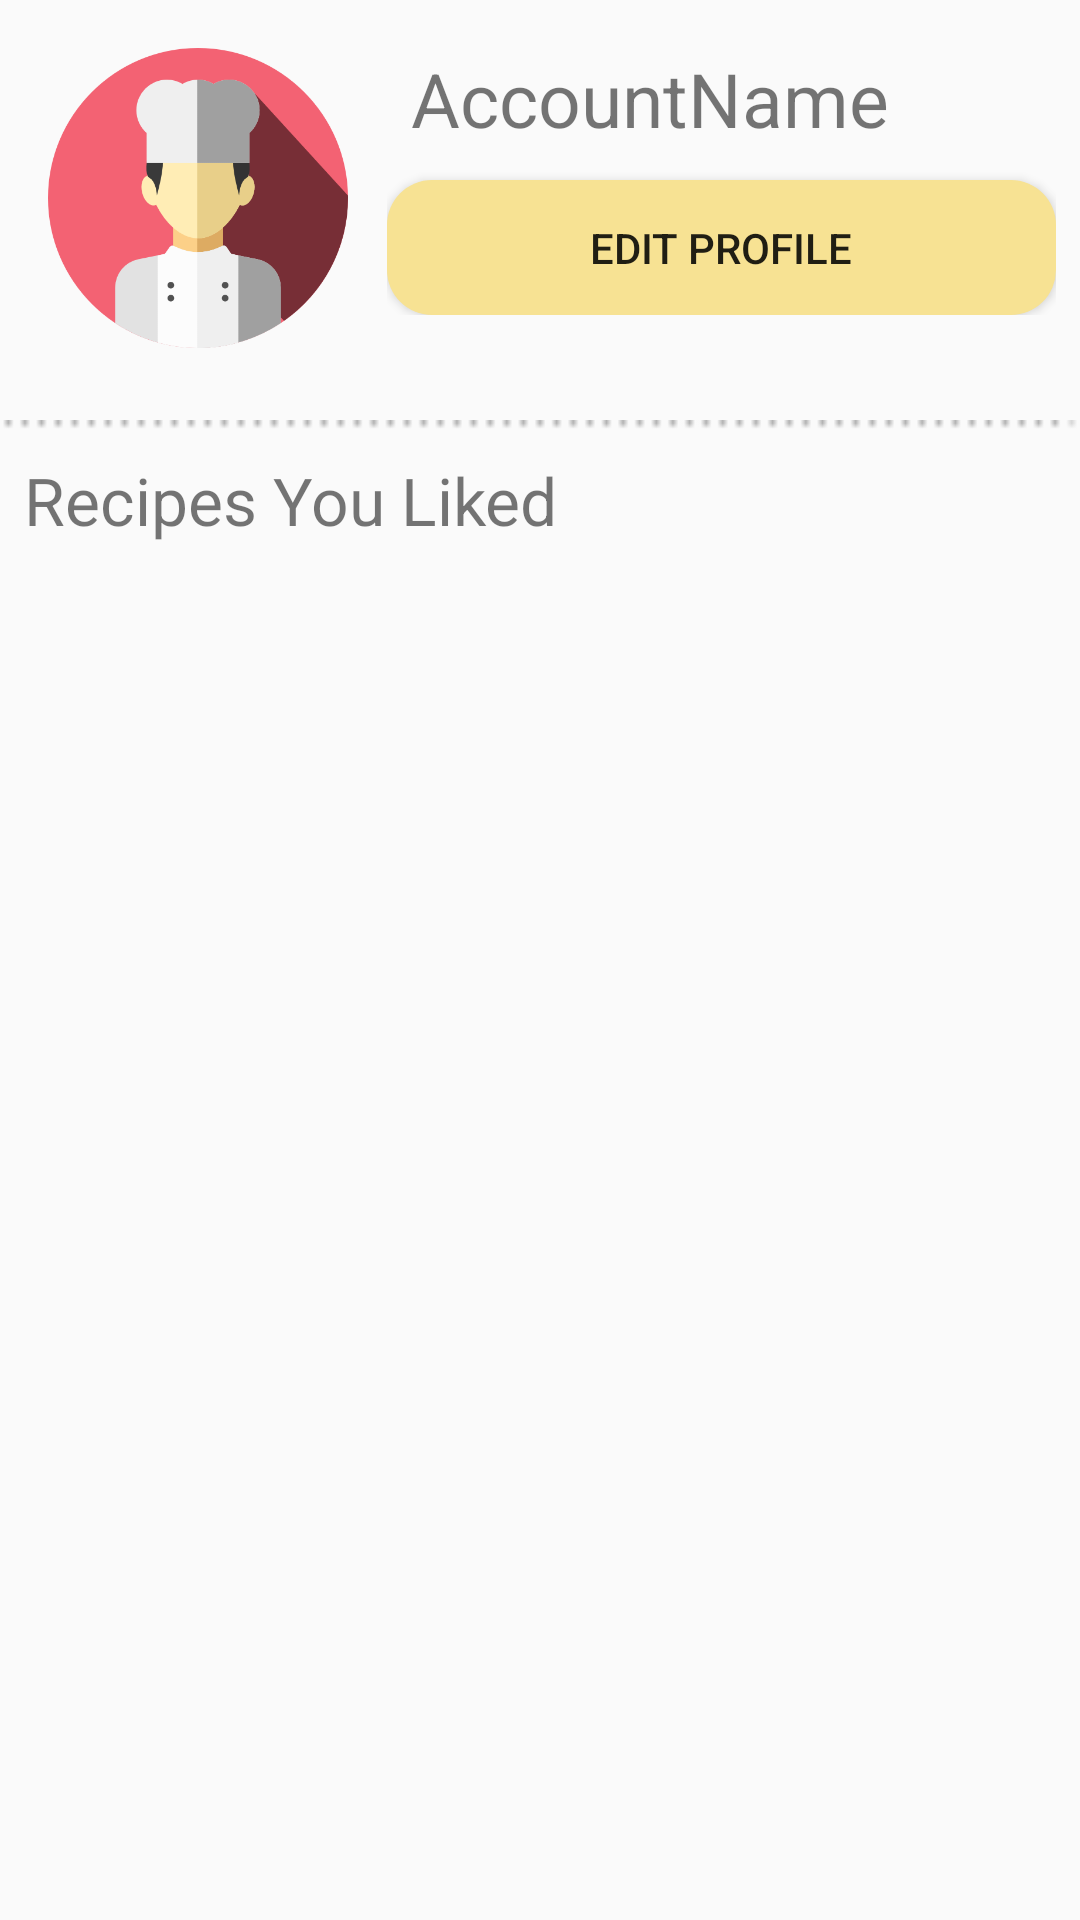

Named icons in this screenshot (1080*1920) and their centers, (x=x, y=y):
chef: (x=198, y=197)
